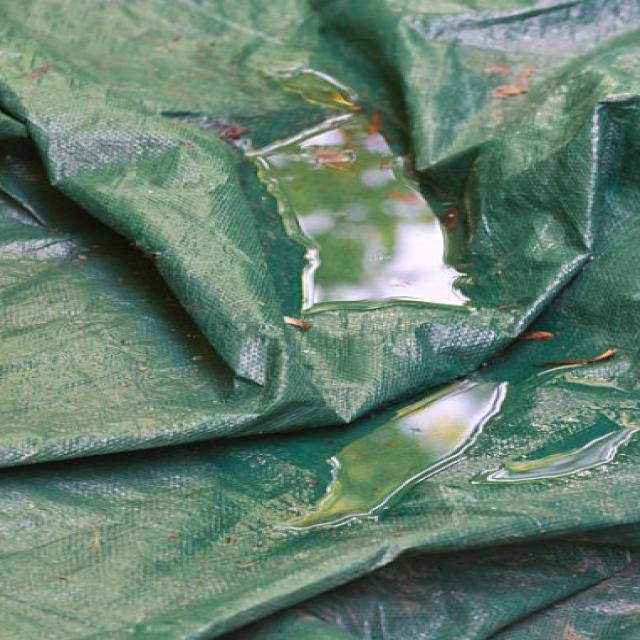Breeding Place: (164, 67, 560, 351), (239, 273, 518, 589)
